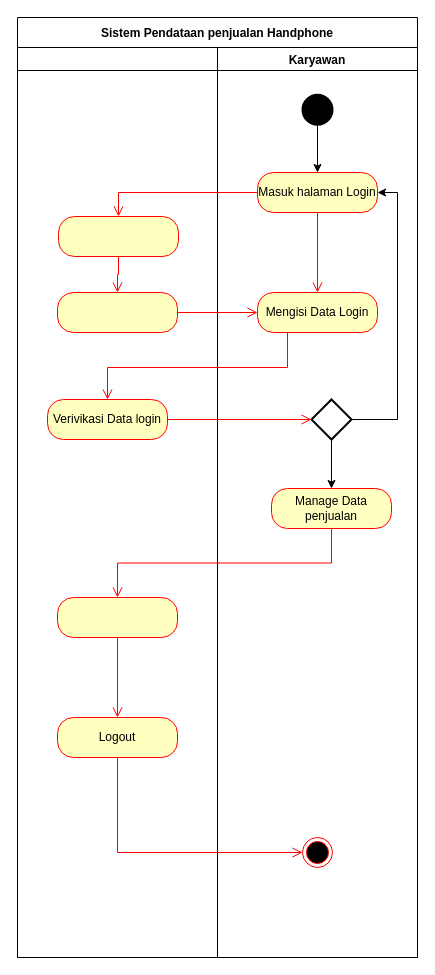
Image size: 435x975. Some labels were removed from this diagram. Each missing label, with the box of its shape:
Menyimpan data penjualan: (56, 596, 178, 638)
Regitrasi: (58, 216, 178, 256)
Sistem: (16, 46, 218, 958)
Verivikasi Data Registrasi: (56, 292, 178, 332)
